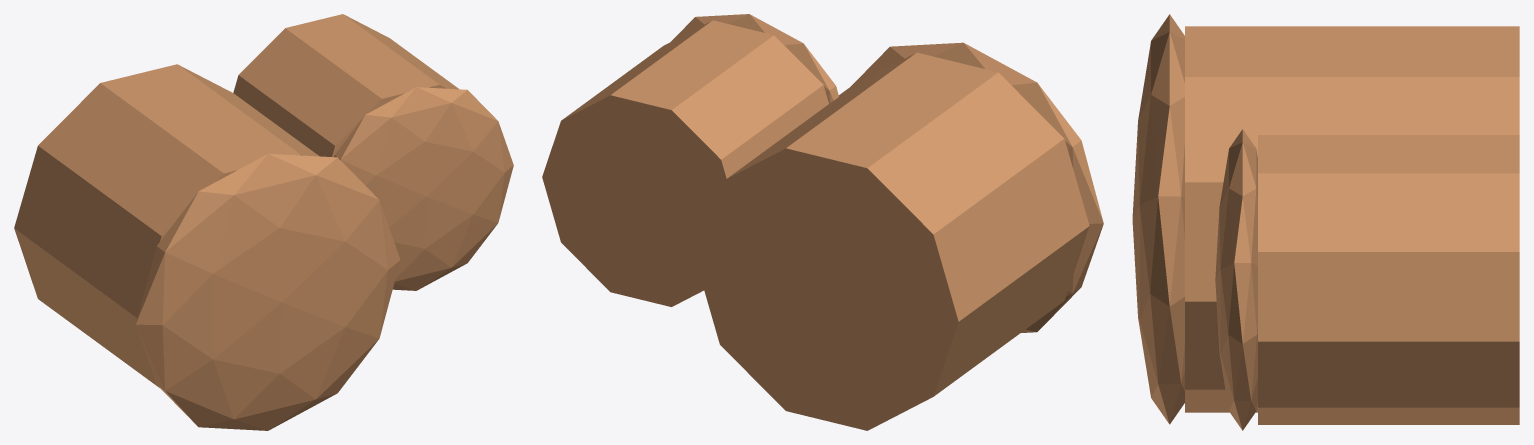
The model's file is desert_clay_pot_stack.glb.
3 renders of one model, left to right at view 1: azimuth 30°, elevation 25°; view 2: azimuth 150°, elevation 25°; view 3: azimuth 270°, elevation 25°, orthographic. The views are drawn at different scales.
Visible parts, largest first — view 1: pot_lip_a, pot_a, pot_lip_b, pot_b; view 2: pot_a, pot_b, pot_lip_a, pot_lip_b; view 3: pot_b, pot_a, pot_lip_a, pot_lip_b.
Boxes of the visible parts, <box> form: pot_lip_a: <box>135,153,400,430</box>; pot_a: <box>14,64,318,387</box>; pot_lip_b: <box>334,87,513,290</box>; pot_b: <box>233,14,458,157</box>; pot_a: <box>696,52,1089,430</box>; pot_b: <box>542,20,828,306</box>; pot_lip_a: <box>850,42,1103,332</box>; pot_lip_b: <box>671,14,838,103</box>; pot_b: <box>1258,135,1519,424</box>; pot_a: <box>1185,26,1519,412</box>; pot_lip_a: <box>1132,14,1184,424</box>; pot_lip_b: <box>1215,129,1257,430</box>.
Size of the model in its own units: 1.04 by 0.69 by 0.6362.
